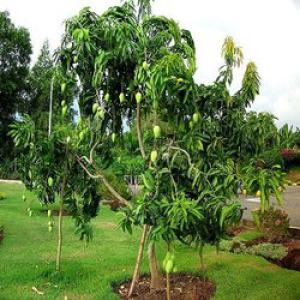Tree: (17, 2, 293, 299)
